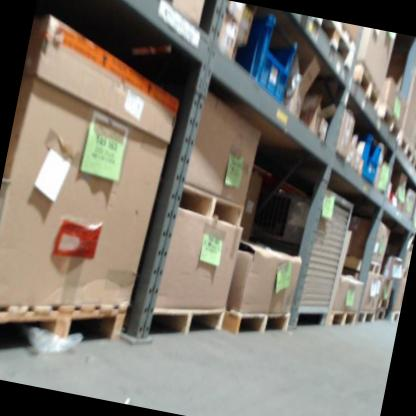pallet: (0, 277, 129, 380), (138, 289, 228, 350), (220, 298, 292, 348), (175, 183, 249, 229), (303, 17, 357, 73), (348, 63, 390, 113), (376, 107, 406, 145), (325, 306, 357, 333), (344, 253, 381, 273), (394, 135, 416, 166), (353, 307, 377, 329), (372, 308, 386, 323), (375, 296, 388, 309), (388, 309, 398, 320), (411, 154, 416, 174)
small_load_carrier: (227, 11, 307, 107), (348, 132, 387, 187)
stillage: (249, 174, 359, 336)
